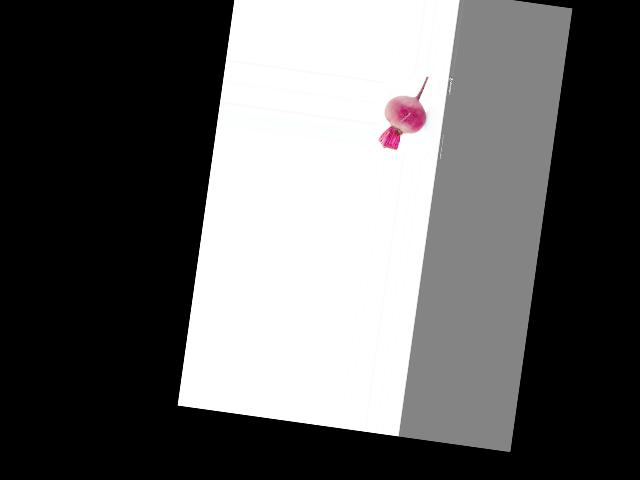beet: (377, 71, 431, 153)
